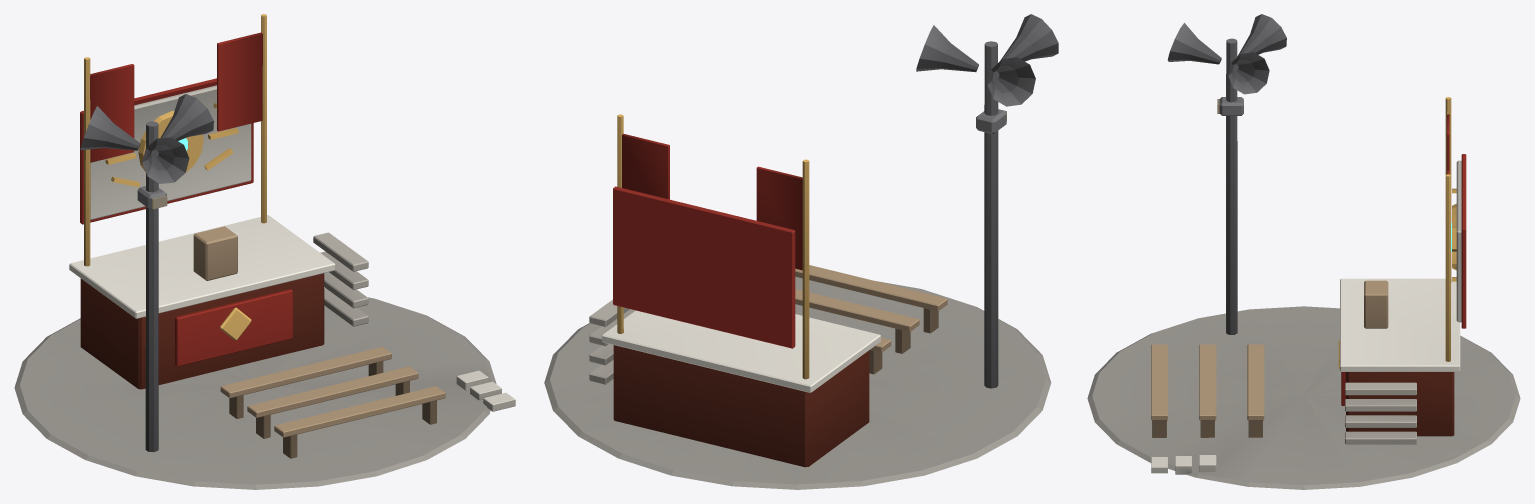
The model's file is bld_agitpunkt.glb.
The picture shows the model from 3 angles, left to right: view 1: azimuth 30°, elevation 25°; view 2: azimuth 150°, elevation 25°; view 3: azimuth 270°, elevation 25°; orthographic projection. The views are drawn at different scales.
Visible parts, largest first — view 1: agitpunkt; view 2: agitpunkt; view 3: agitpunkt.
Part boxes in pixels (x1,y1,x2,y2): agitpunkt: (14, 14, 515, 489); agitpunkt: (544, 14, 1058, 489); agitpunkt: (1087, 14, 1520, 489).
Size of the model in its own units: 1.8 by 1.4 by 1.8.
